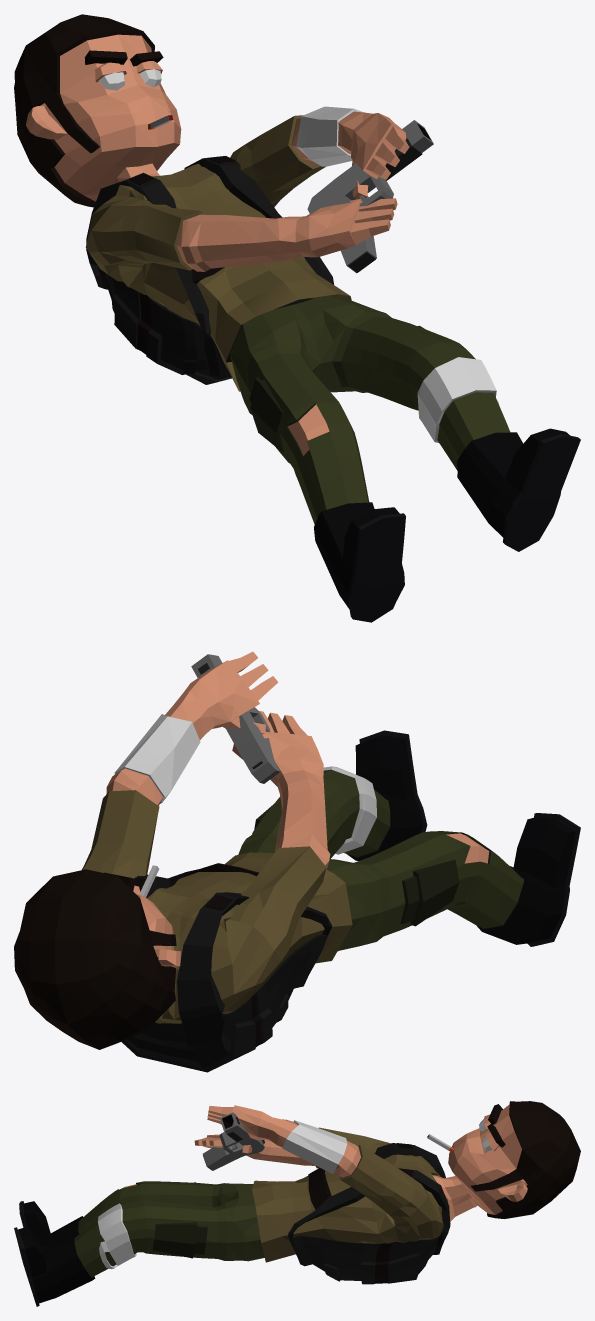
The model's file is frame_0154.obj.
3 renders of one model, top to bottom at view 1: azimuth 30°, elevation 25°; view 2: azimuth 150°, elevation 25°; view 3: azimuth 270°, elevation 25°, orthographic. The views are drawn at different scales.
Parts seen in each view (by area): view 1: Body, Gun; view 2: Body, Gun; view 3: Body, Gun.
Boxes of the visible parts, <box> form: Body: <box>14,14,580,622</box>; Gun: <box>307,120,433,273</box>; Body: <box>14,651,580,1072</box>; Gun: <box>191,654,279,783</box>; Body: <box>14,1101,580,1306</box>; Gun: <box>203,1112,264,1170</box>.
Bounding box in the file's own units: 1.27 × 1.88 × 4.13.
